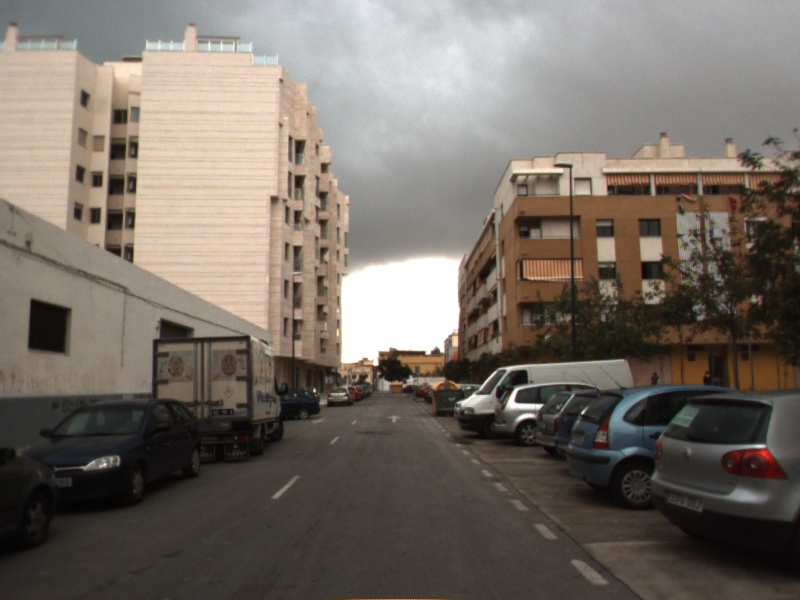STRAIGHT: (384, 413, 405, 425)
